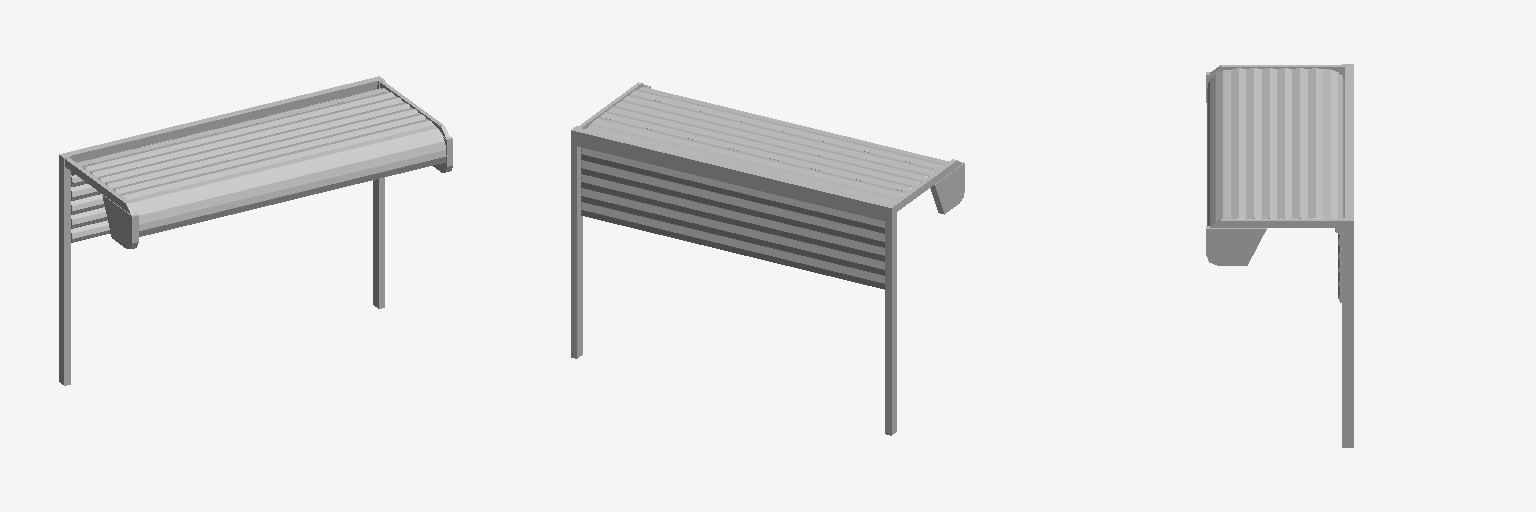
The model's file is W_BackGate.obj.
3 views of the same model, side by side, from view 1: azimuth 30°, elevation 25°; view 2: azimuth 150°, elevation 25°; view 3: azimuth 270°, elevation 25° (orthographic).
Visible parts, largest first — view 1: GateFrame.001_Cube.032, gartentor_part.030_gartentor_part.001, gartentor_part.031_gartentor_part.001, gartentor_part.029_gartentor_part.001, gartentor_part.028_gartentor_part.001, gartentor_part.024_gartentor_part.001, gartentor_part.026_gartentor_part.001, gartentor_part.027_gartentor_part.001, gartentor_part.025_gartentor_part.001, gartentor_part.023_gartentor_part.001, gartentor_part.022_gartentor_part.001, gartentor_part.016_gartentor_part.001; view 2: GateFrame.001_Cube.032, gartentor_part.019_gartentor_part.001, gartentor_part.017_gartentor_part.001, gartentor_part.016_gartentor_part.001, gartentor_part.018_gartentor_part.001, gartentor_part.020_gartentor_part.001, gartentor_part.022_gartentor_part.001, gartentor_part.024_gartentor_part.001, gartentor_part.023_gartentor_part.001, gartentor_part.026_gartentor_part.001, gartentor_part.025_gartentor_part.001, gartentor_part.027_gartentor_part.001 (+2 smaller); view 3: GateFrame.001_Cube.032, gartentor_part.024_gartentor_part.001, gartentor_part.027_gartentor_part.001, gartentor_part.025_gartentor_part.001, gartentor_part.026_gartentor_part.001, gartentor_part.023_gartentor_part.001, gartentor_part.028_gartentor_part.001, gartentor_part.022_gartentor_part.001, gartentor_part.029_gartentor_part.001, gartentor_part.030_gartentor_part.001, gartentor_part.021_gartentor_part.001.
Boxes of the visible parts, <box> form: GateFrame.001_Cube.032: <box>59,76,452,385</box>; gartentor_part.030_gartentor_part.001: <box>134,134,445,223</box>; gartentor_part.031_gartentor_part.001: <box>139,149,446,236</box>; gartentor_part.029_gartentor_part.001: <box>128,125,441,208</box>; gartentor_part.028_gartentor_part.001: <box>120,119,433,199</box>; gartentor_part.024_gartentor_part.001: <box>89,97,402,176</box>; gartentor_part.026_gartentor_part.001: <box>105,108,418,187</box>; gartentor_part.027_gartentor_part.001: <box>112,113,425,193</box>; gartentor_part.025_gartentor_part.001: <box>97,102,410,182</box>; gartentor_part.023_gartentor_part.001: <box>82,91,395,171</box>; gartentor_part.022_gartentor_part.001: <box>78,88,387,165</box>; gartentor_part.016_gartentor_part.001: <box>71,220,110,242</box>; GateFrame.001_Cube.032: <box>571,82,964,435</box>; gartentor_part.019_gartentor_part.001: <box>581,160,884,247</box>; gartentor_part.017_gartentor_part.001: <box>581,188,884,275</box>; gartentor_part.016_gartentor_part.001: <box>581,202,884,289</box>; gartentor_part.018_gartentor_part.001: <box>581,174,884,261</box>; gartentor_part.020_gartentor_part.001: <box>581,147,884,233</box>; gartentor_part.022_gartentor_part.001: <box>586,123,898,203</box>; gartentor_part.024_gartentor_part.001: <box>600,111,914,191</box>; gartentor_part.023_gartentor_part.001: <box>592,117,906,197</box>; gartentor_part.026_gartentor_part.001: <box>615,100,929,180</box>; gartentor_part.025_gartentor_part.001: <box>608,106,921,185</box>; gartentor_part.027_gartentor_part.001: <box>623,94,937,174</box>; GateFrame.001_Cube.032: <box>1206,64,1353,447</box>; gartentor_part.024_gartentor_part.001: <box>1292,68,1307,218</box>; gartentor_part.027_gartentor_part.001: <box>1246,68,1261,218</box>; gartentor_part.025_gartentor_part.001: <box>1277,68,1291,218</box>; gartentor_part.026_gartentor_part.001: <box>1262,68,1276,218</box>; gartentor_part.023_gartentor_part.001: <box>1308,68,1322,218</box>; gartentor_part.028_gartentor_part.001: <box>1231,68,1245,218</box>; gartentor_part.022_gartentor_part.001: <box>1323,69,1337,218</box>; gartentor_part.029_gartentor_part.001: <box>1216,70,1230,221</box>; gartentor_part.030_gartentor_part.001: <box>1208,74,1215,225</box>; gartentor_part.021_gartentor_part.001: <box>1335,72,1344,234</box>.
Bounding box in the file's own units: 4.93 × 3.34 × 1.96.